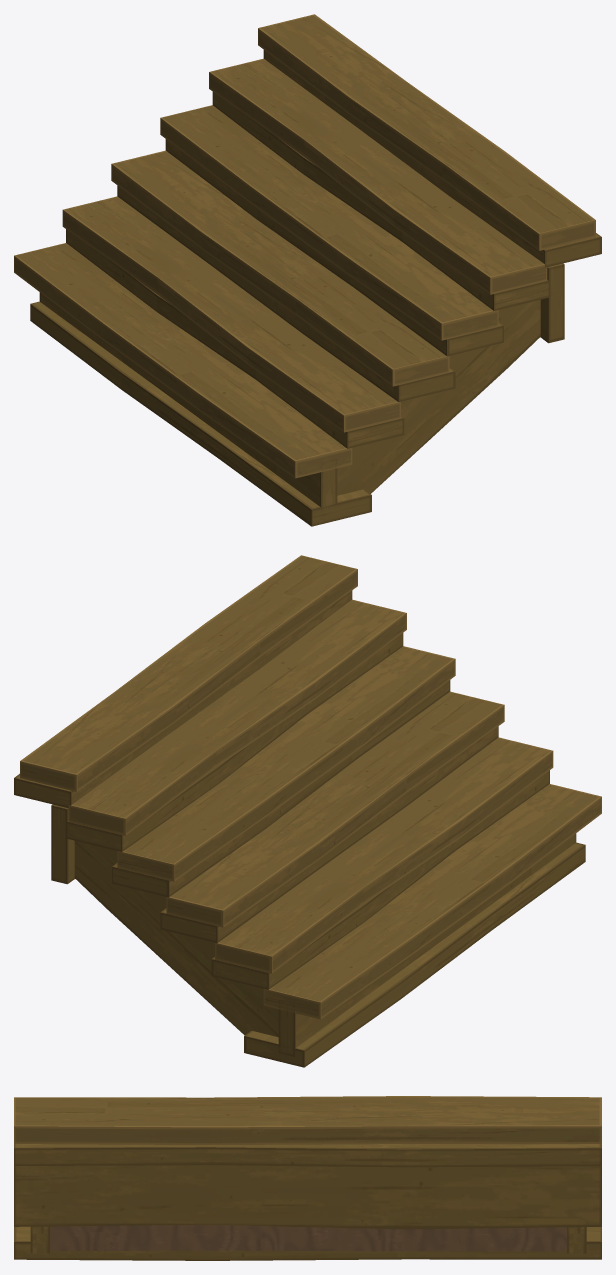
Rendered from SM_building_stairs_09.glb.
The picture shows the model from 3 angles, top to bottom: view 1: azimuth 30°, elevation 25°; view 2: azimuth 150°, elevation 25°; view 3: azimuth 270°, elevation 25°; orthographic projection. The views are drawn at different scales.
Visible parts, largest first — view 1: SM_building_stairs_09; view 2: SM_building_stairs_09; view 3: SM_building_stairs_09.
Part boxes in pixels (x1=…): SM_building_stairs_09: x1=14, y1=14, x2=601, y2=526; SM_building_stairs_09: x1=14, y1=555, x2=601, y2=1067; SM_building_stairs_09: x1=14, y1=1096, x2=601, y2=1260.
Size of the model in its own units: 1.92 by 1.4 by 3.
Materials: 3 (3 with a texture image).
